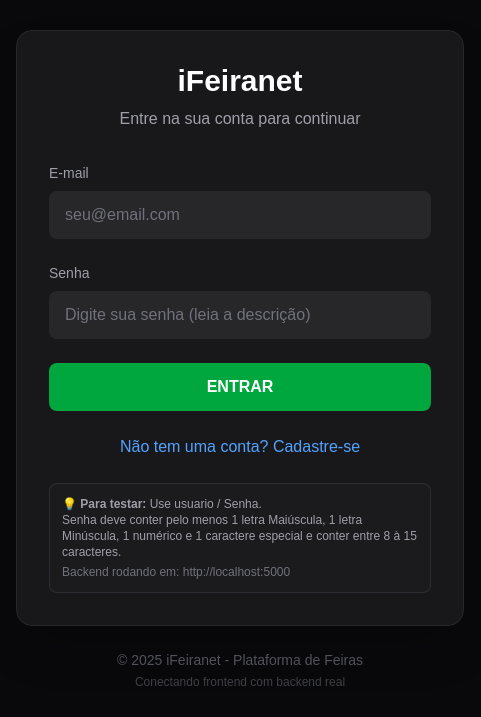
Login Component › Test 6: Validate short password (menos de 6 caracteres)
Type "teste@example.com" into the field with placeholder "seu@email.com" at [240, 215], box [49,191,431,239]
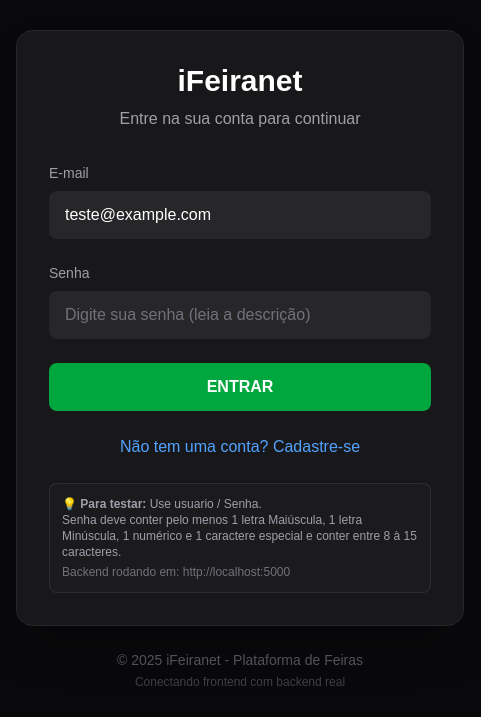
Type "123" into the password field with placeholder "Digite sua senha (leia a descrição)" at [240, 315], box [49,291,431,339]
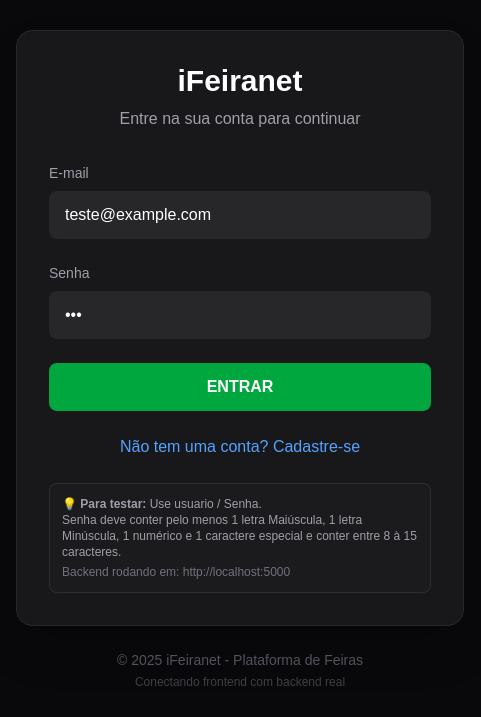
Click the button "ENTRAR" at [240, 387], box [49,363,431,411]
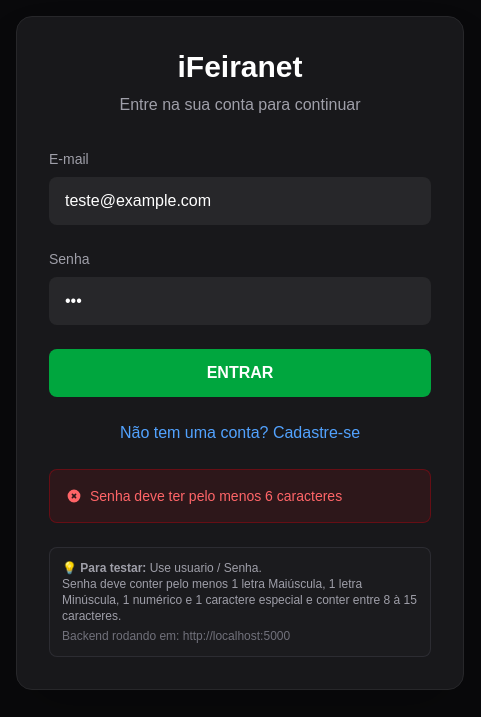
Expected: the text "Senha deve ter pelo menos 6 caracteres" is shown, [66,488,342,504]
